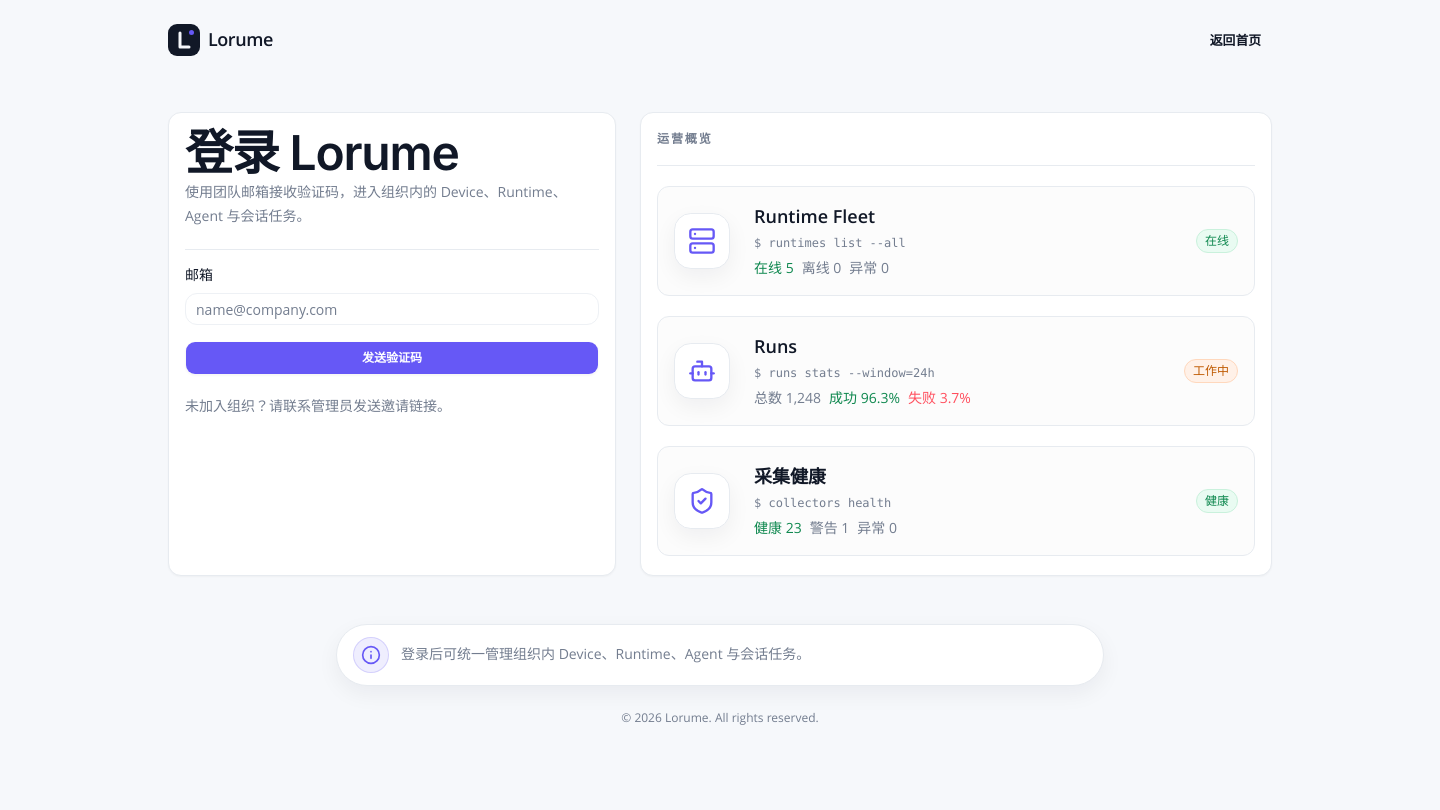
auth pages › maps login service gateway failures to a readable message
Type "zhangliang@gaoding.com" into the field labelled "邮箱" at coordinates (392, 309), box [185, 293, 599, 325]
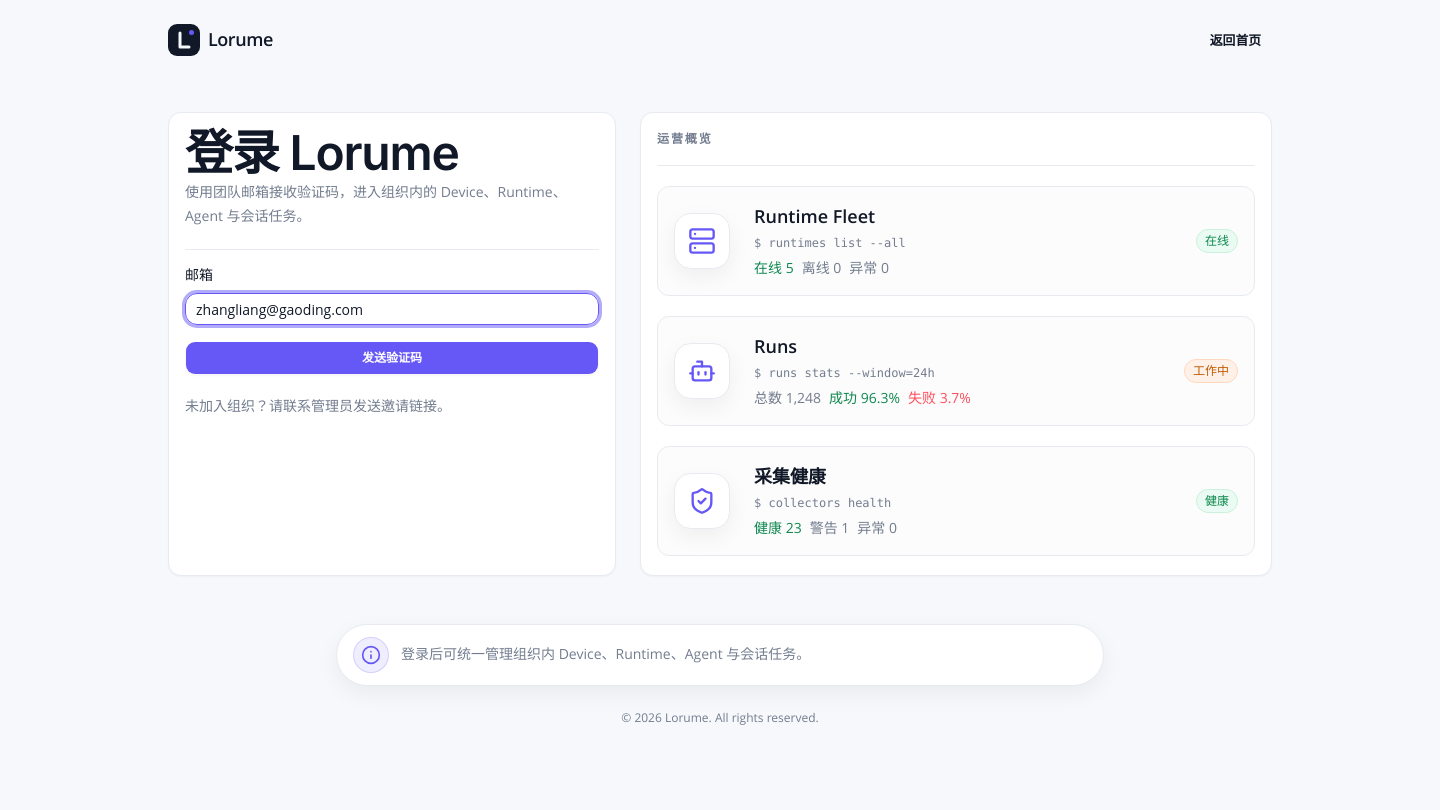
Click the button "发送验证码" at coordinates (392, 358), box [185, 341, 599, 375]
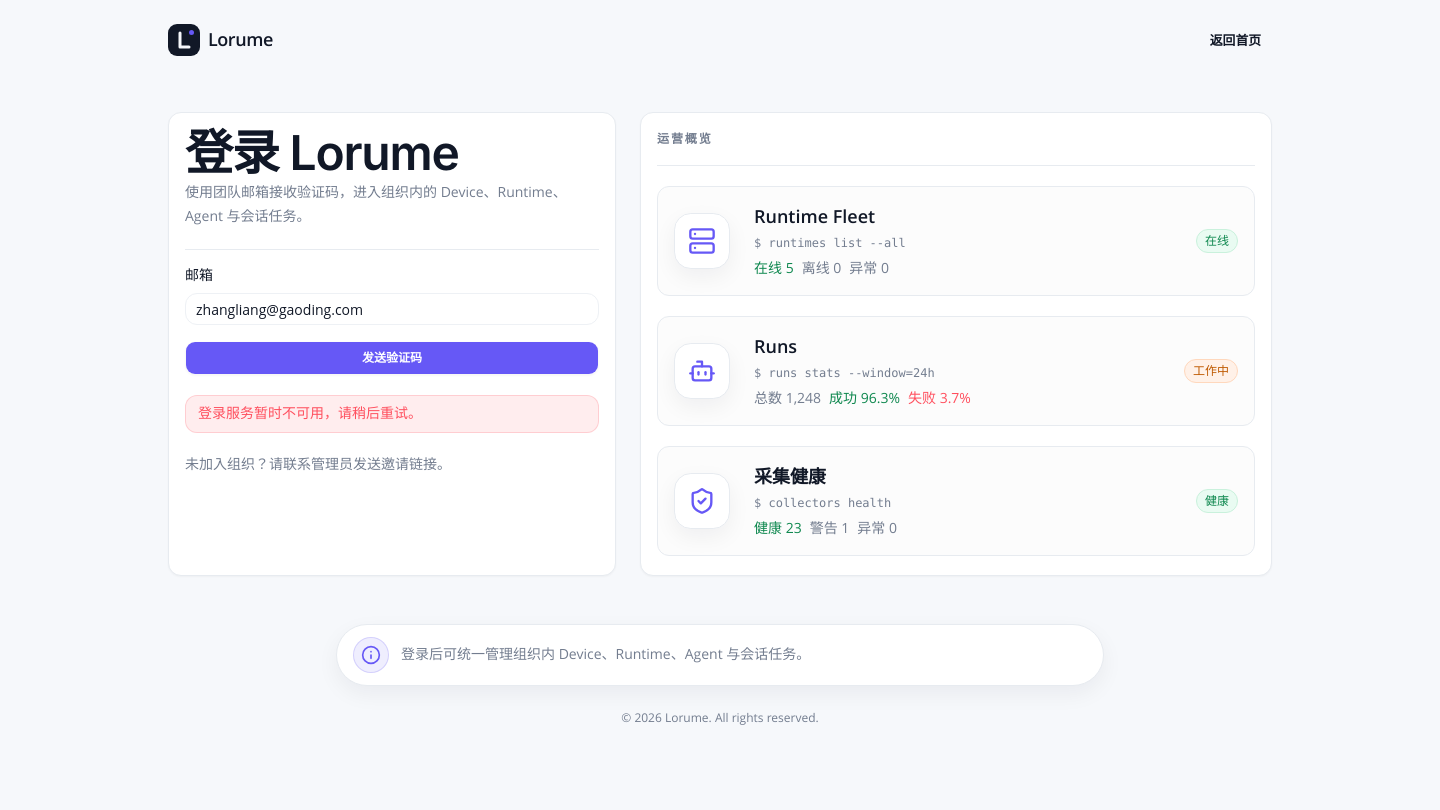
expect the message reads "登录服务暂时不可用，请稍后重试。": met, box [198, 404, 422, 423]
